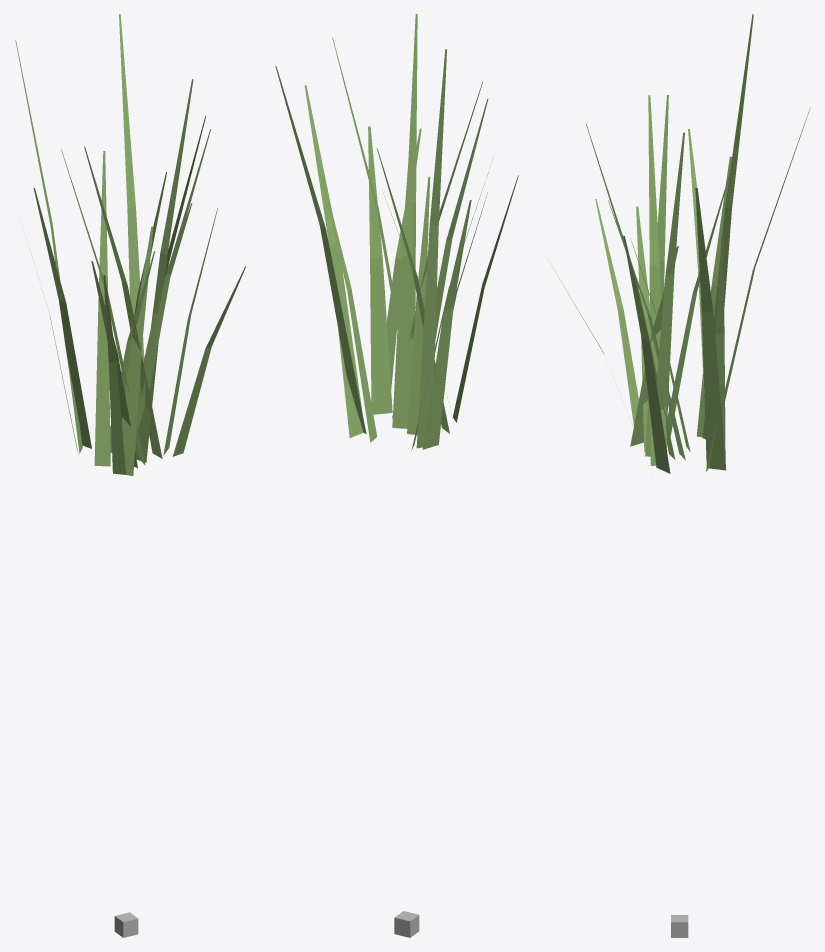
The model's file is rv_grass_tuft_b.gltf.
3 renders of one model, left to right at view 1: azimuth 30°, elevation 25°; view 2: azimuth 150°, elevation 25°; view 3: azimuth 270°, elevation 25°, orthographic. The views are drawn at different scales.
Parts seen in each view (by area): view 1: RV_GrassTuftB; view 2: RV_GrassTuftB; view 3: RV_GrassTuftB.
Boxes of the visible parts, x1=… form: RV_GrassTuftB: x1=15, y1=14, x2=245, y2=937; RV_GrassTuftB: x1=275, y1=14, x2=518, y2=937; RV_GrassTuftB: x1=547, y1=14, x2=810, y2=937.
Bounding box in the file's own units: 0.2345 × 1.13 × 0.3046.
